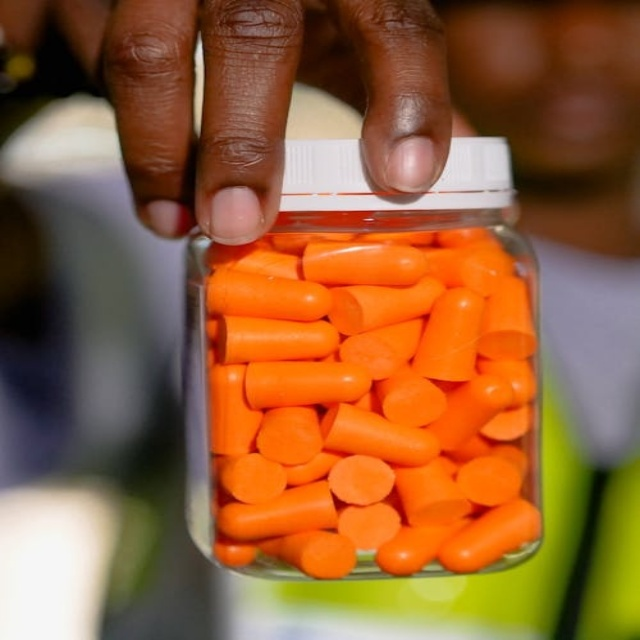Sin_guantes: (84, 0, 458, 253)
